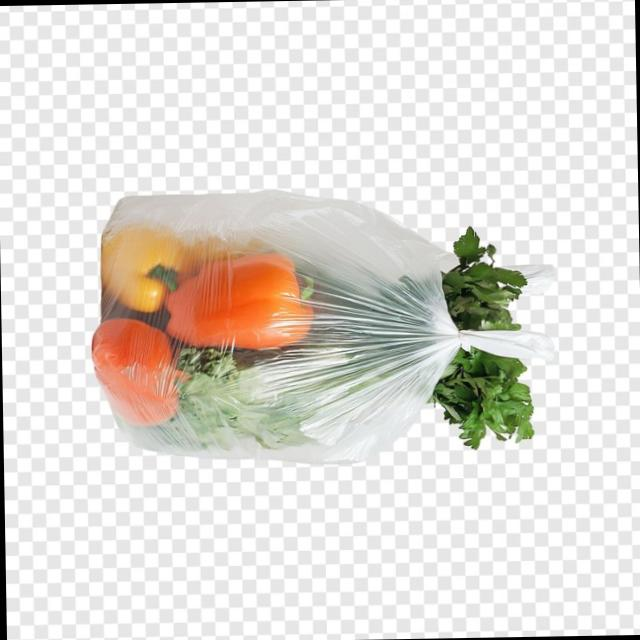plastic_bag: (56, 181, 555, 500)
